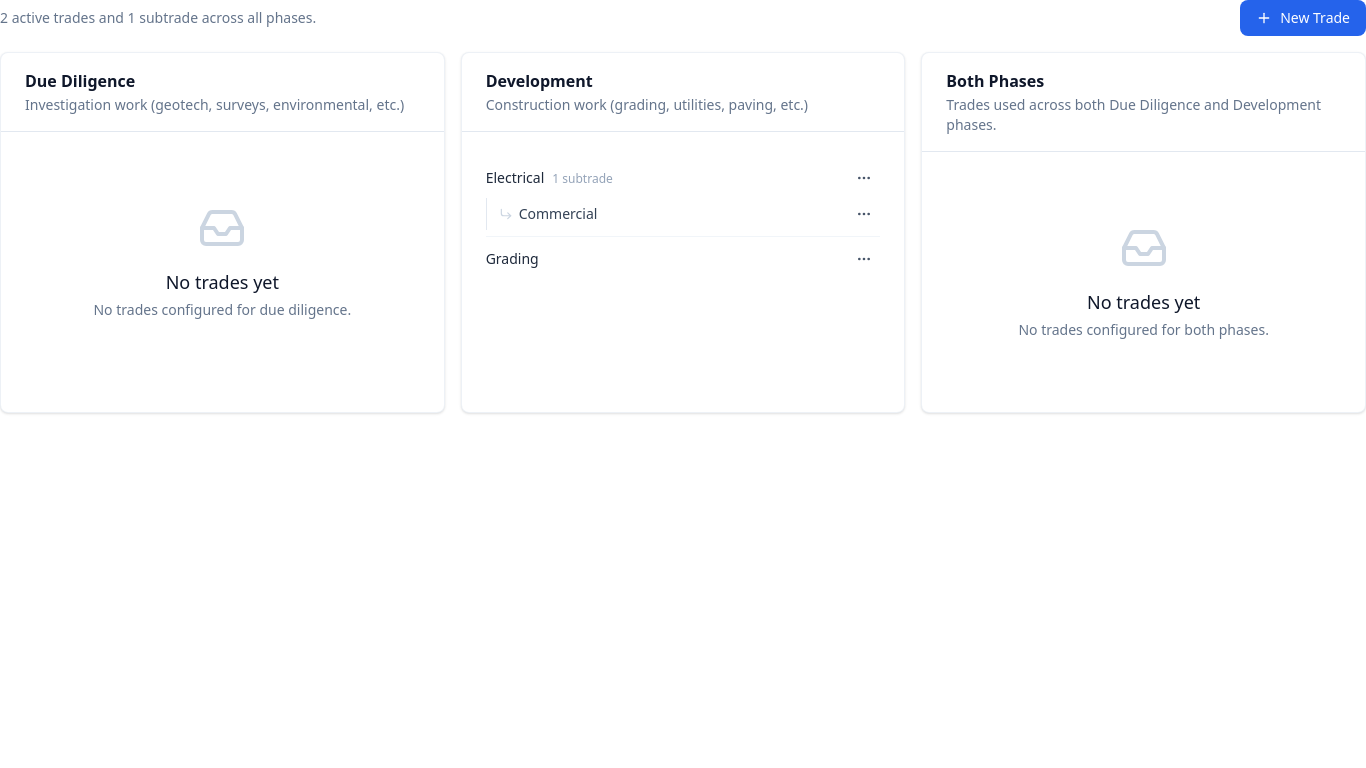
TradeManagementPanel › locks editing when the trade is in use
The image size is (1366, 768).
Click the button named "actions for grading". click: (864, 259)
box: [848,243,880,275]
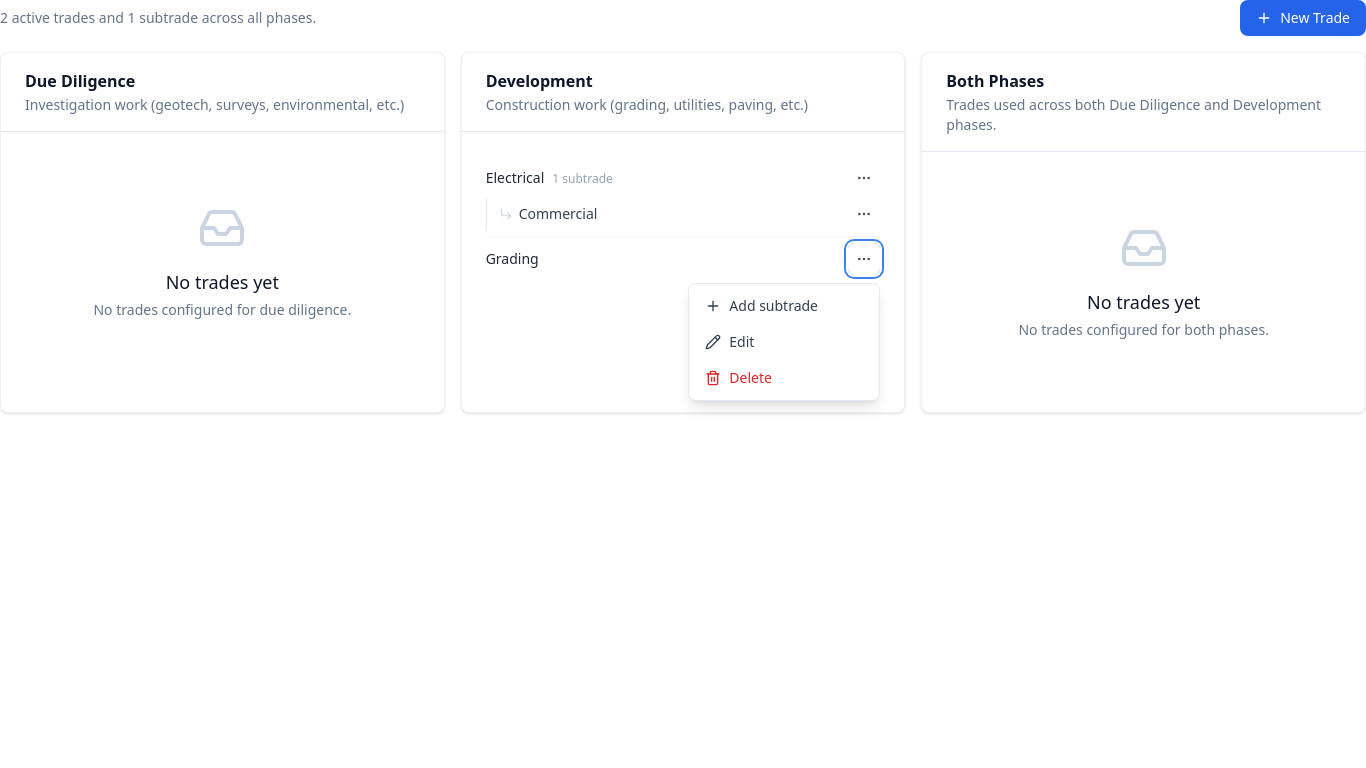
Click the menu item "Edit". click: (784, 342)
box: [689,324,879,360]
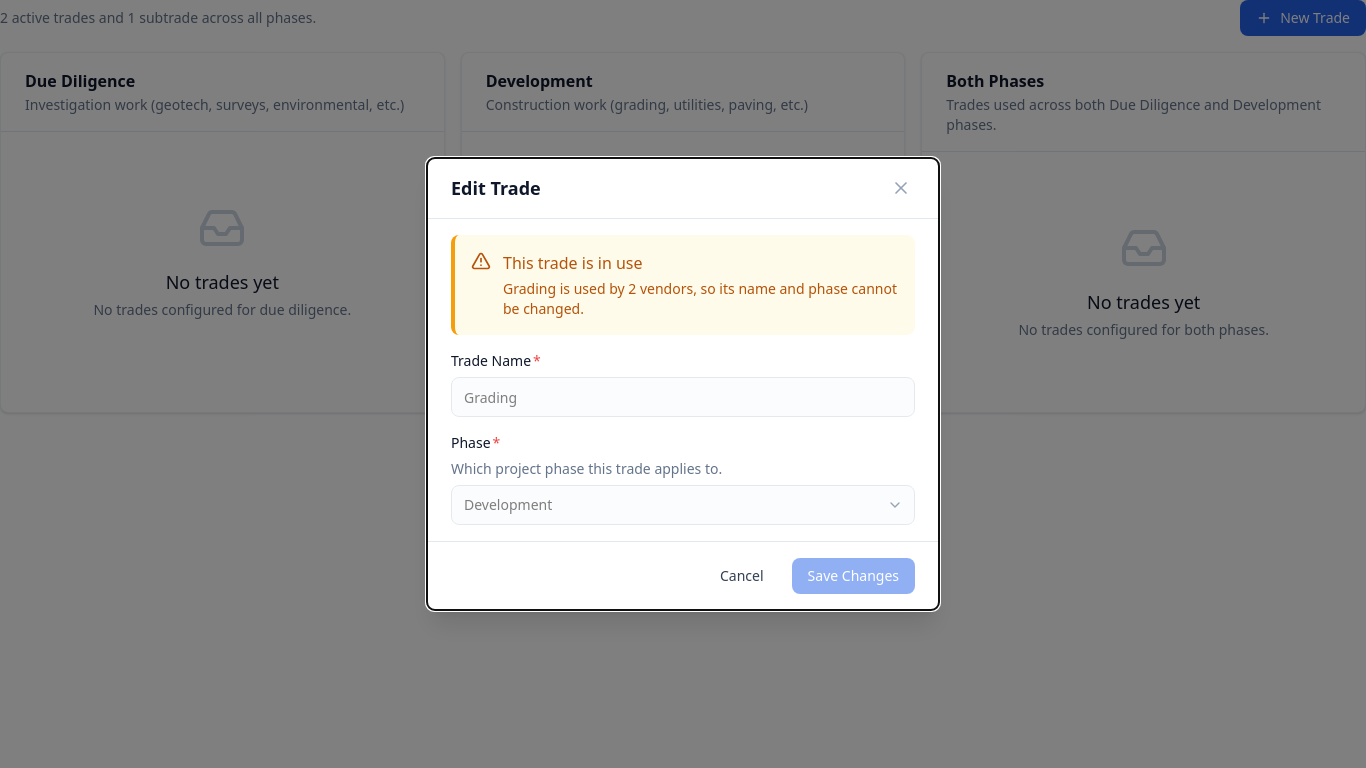
Result: the text "used by 2 vendors" is shown at [503,279,899,319]
Result: the button "Save Changes" is disabled at [792,558,915,594]
